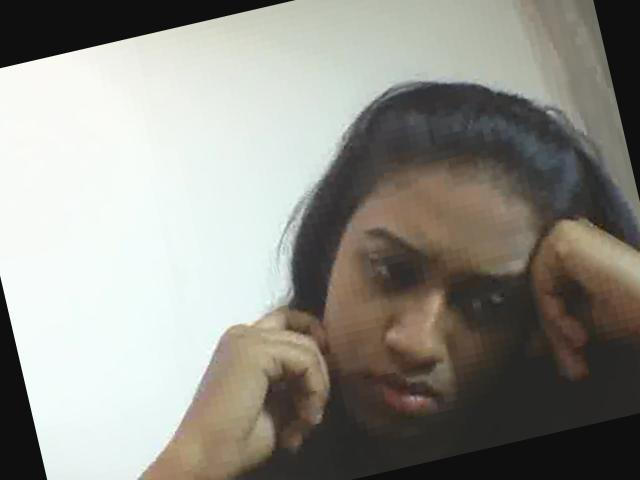bosan: (290, 159, 554, 463)
